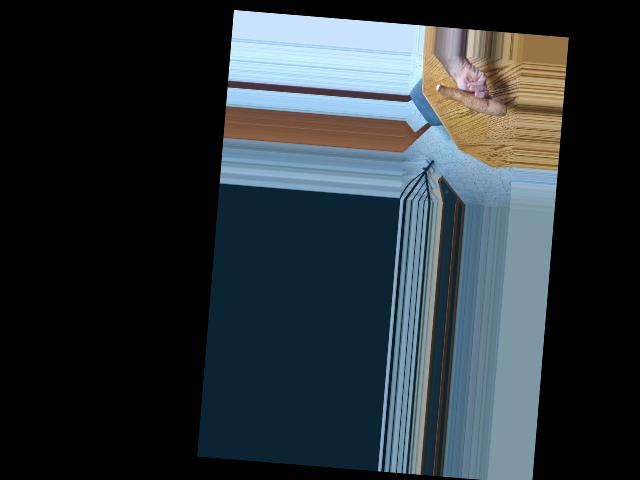sweet_potato: (433, 80, 506, 118)
